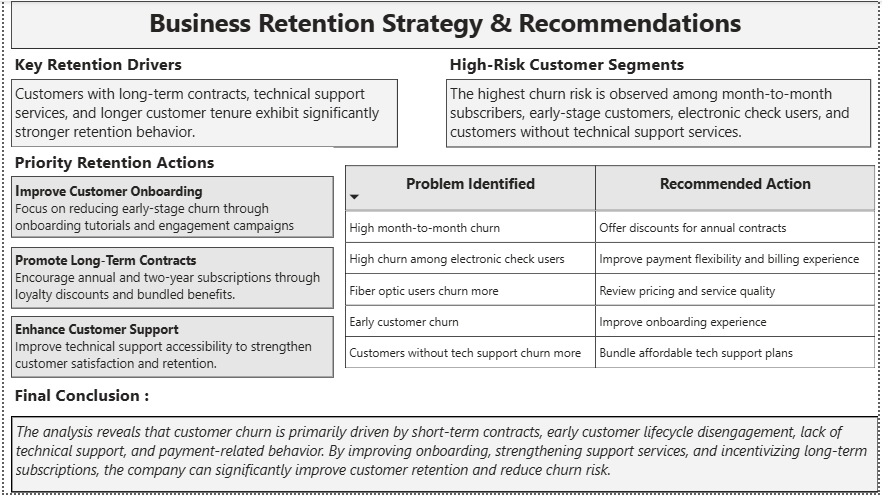

This screenshot's page, from the dashboard's own definition file:
{"tool":"powerbi","page":{"name":"Retention Strategy & Recommendations","canvas":[1280,720],"ordinal":3},"visuals":[{"type":"textbox","box":[10,0,1270,70],"z":0},{"type":"textbox","box":[10.4,70.1,509,43.3],"z":1000},{"type":"textbox","box":[10.4,113.4,565.7,100],"z":2000},{"type":"textbox","box":[646.3,70.1,634.3,43.3],"z":3000},{"type":"textbox","box":[646.3,113.4,622.4,100],"z":4000},{"type":"tableEx","fields":{"Values":["RetentionRecommendations.Problem Identified","RetentionRecommendations.Recommended Action"]},"box":[492.5,235.8,788.1,319.4],"z":5000},{"type":"textbox","box":[10.4,213.4,471.6,43.3],"z":6000},{"type":"textbox","box":[10.4,256.7,471.6,89.6],"z":7000},{"type":"textbox","box":[10.4,359.7,471.6,89.6],"z":8000},{"type":"textbox","box":[10.4,461.2,471.6,89.6],"z":9000},{"type":"textbox","box":[10.4,555.2,271.6,52.2],"z":10000},{"type":"textbox","box":[10.4,607.5,1270.1,111.9],"z":11000}]}

Visuals, with their boxes in screenshot pixels (x1, y1, x2, y2), scaled from the page's 1280x720 canvas onto the 882x495 screenshot:
textbox: bbox=(7, 0, 881, 48)
textbox: bbox=(7, 48, 358, 78)
textbox: bbox=(7, 78, 397, 147)
textbox: bbox=(445, 48, 881, 78)
textbox: bbox=(445, 78, 874, 147)
tableEx - RetentionRecommendations.Problem Identified x RetentionRecommendations.Recommended Action: bbox=(339, 162, 881, 382)
textbox: bbox=(7, 147, 332, 176)
textbox: bbox=(7, 176, 332, 238)
textbox: bbox=(7, 247, 332, 309)
textbox: bbox=(7, 317, 332, 379)
textbox: bbox=(7, 382, 194, 418)
textbox: bbox=(7, 418, 881, 494)
